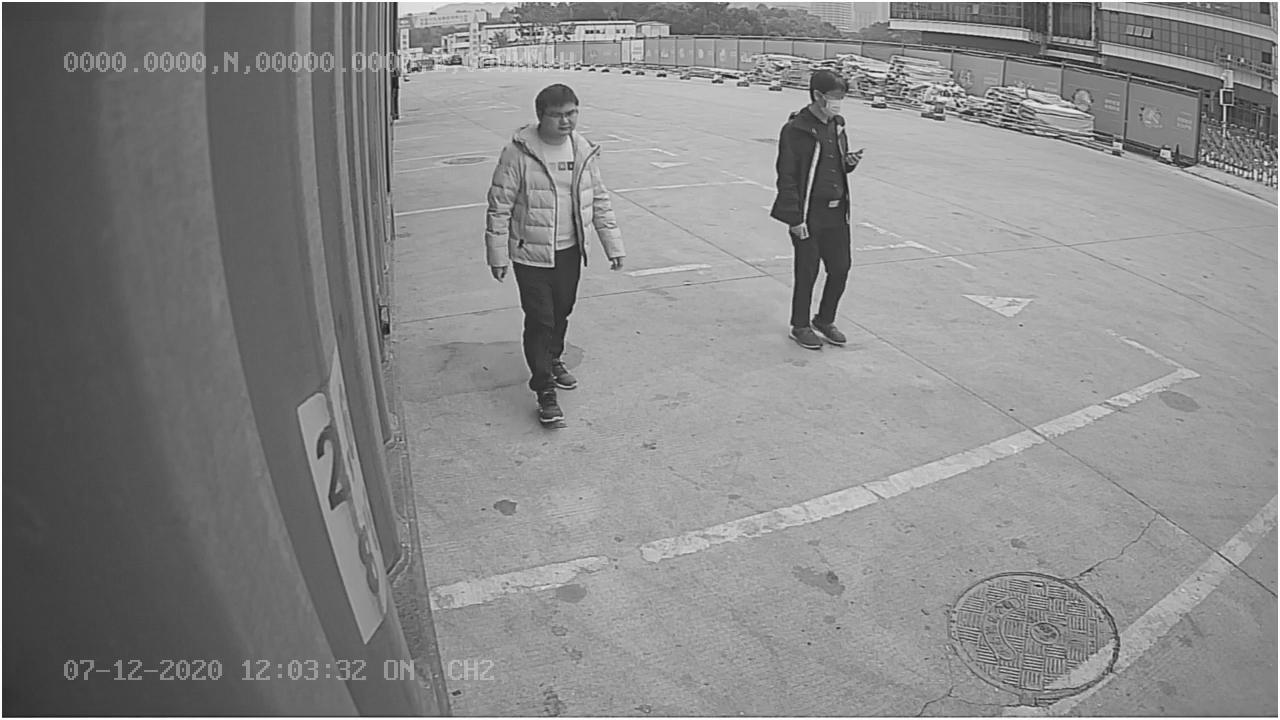person: (479, 82, 628, 429), (769, 64, 864, 349)
